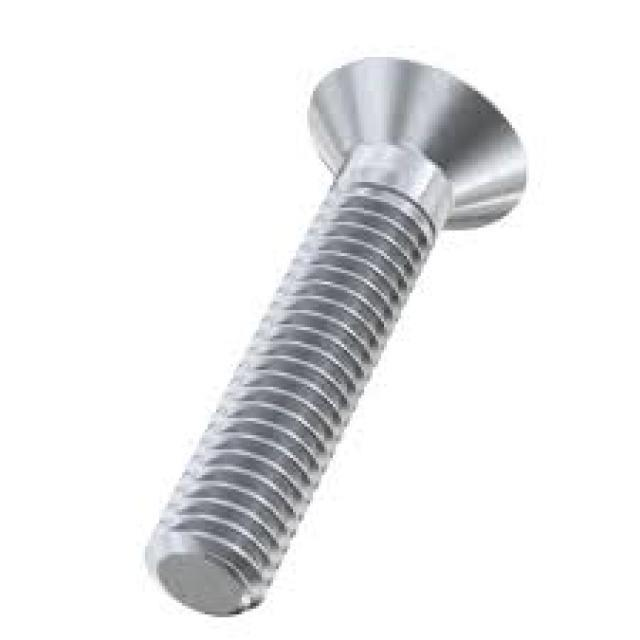Screw: (142, 57, 529, 620)
